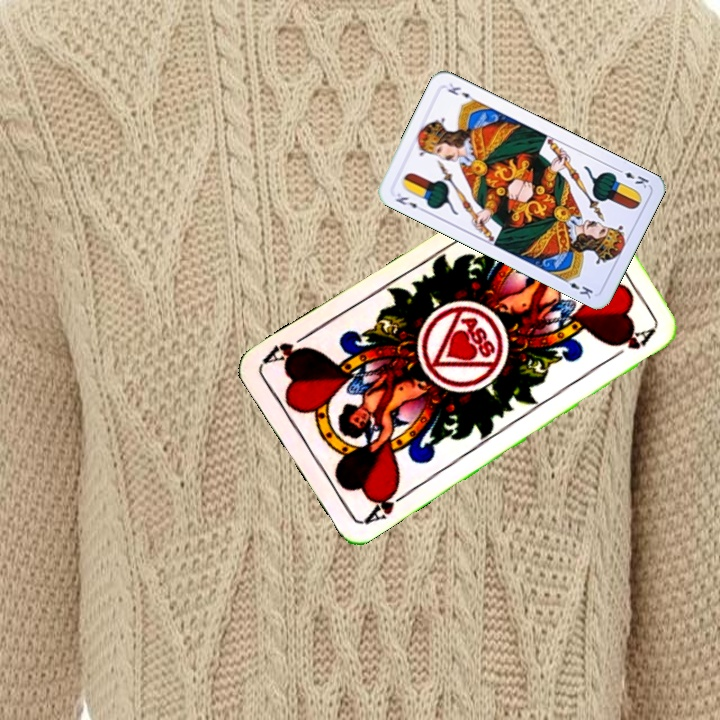EK: (612, 164, 651, 191), (391, 189, 428, 214)
HA: (360, 481, 413, 527)
